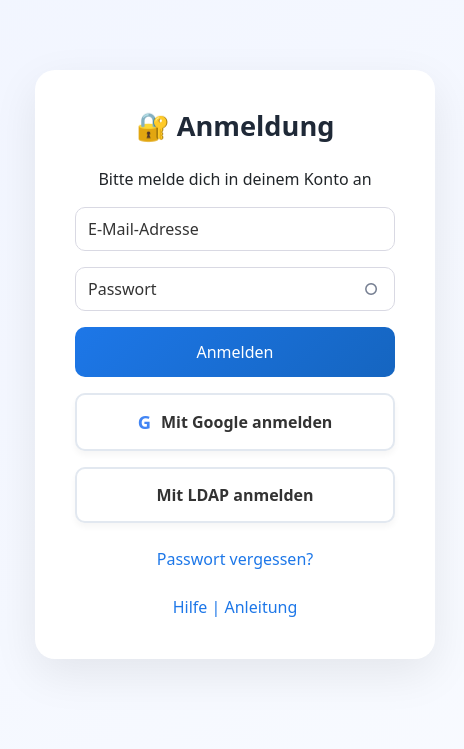
Test: Login Page post-auth role flow › denies access when authentication returns no valid role
Type "test@example.com" into the field with placeholder "E-Mail-Adresse" at [235, 229], box [75,207,395,251]
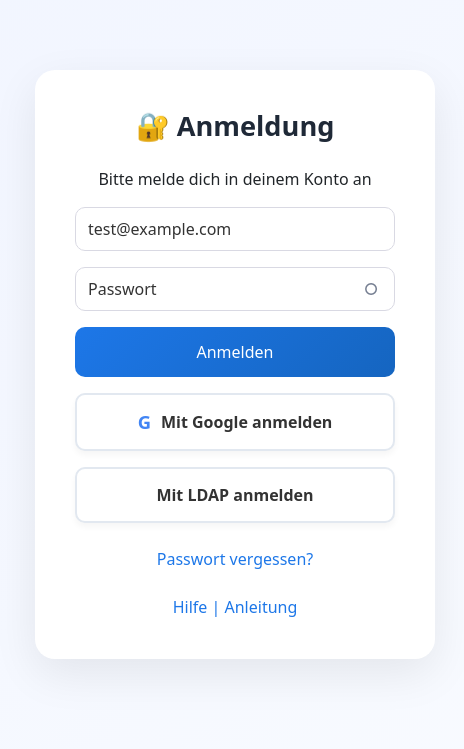
Type "testpass" into the password field with placeholder "Passwort" at [235, 289], box [75,267,395,311]
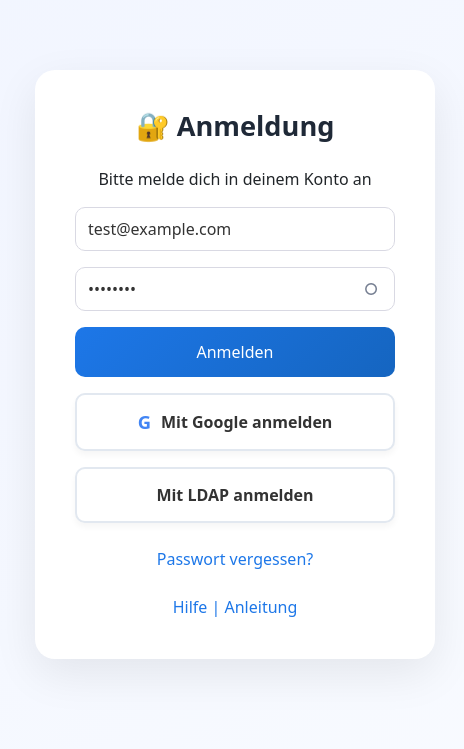
Click the button "Anmelden" at [235, 352], box [75,327,395,377]
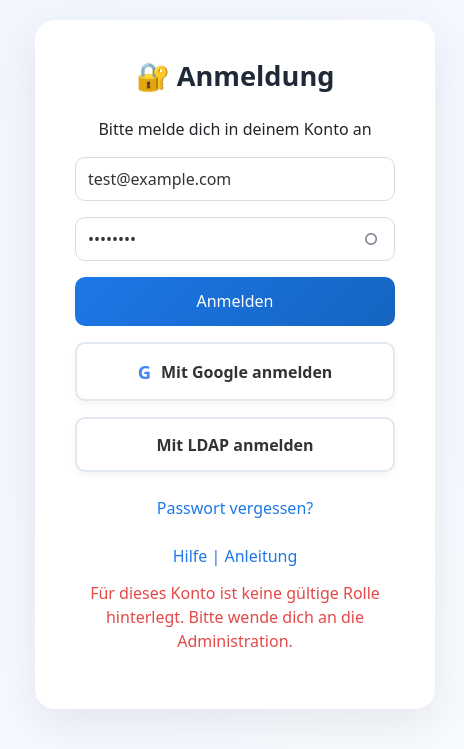
Check: the message shows "keine gültige Rolle", box [90,582,380,652]
